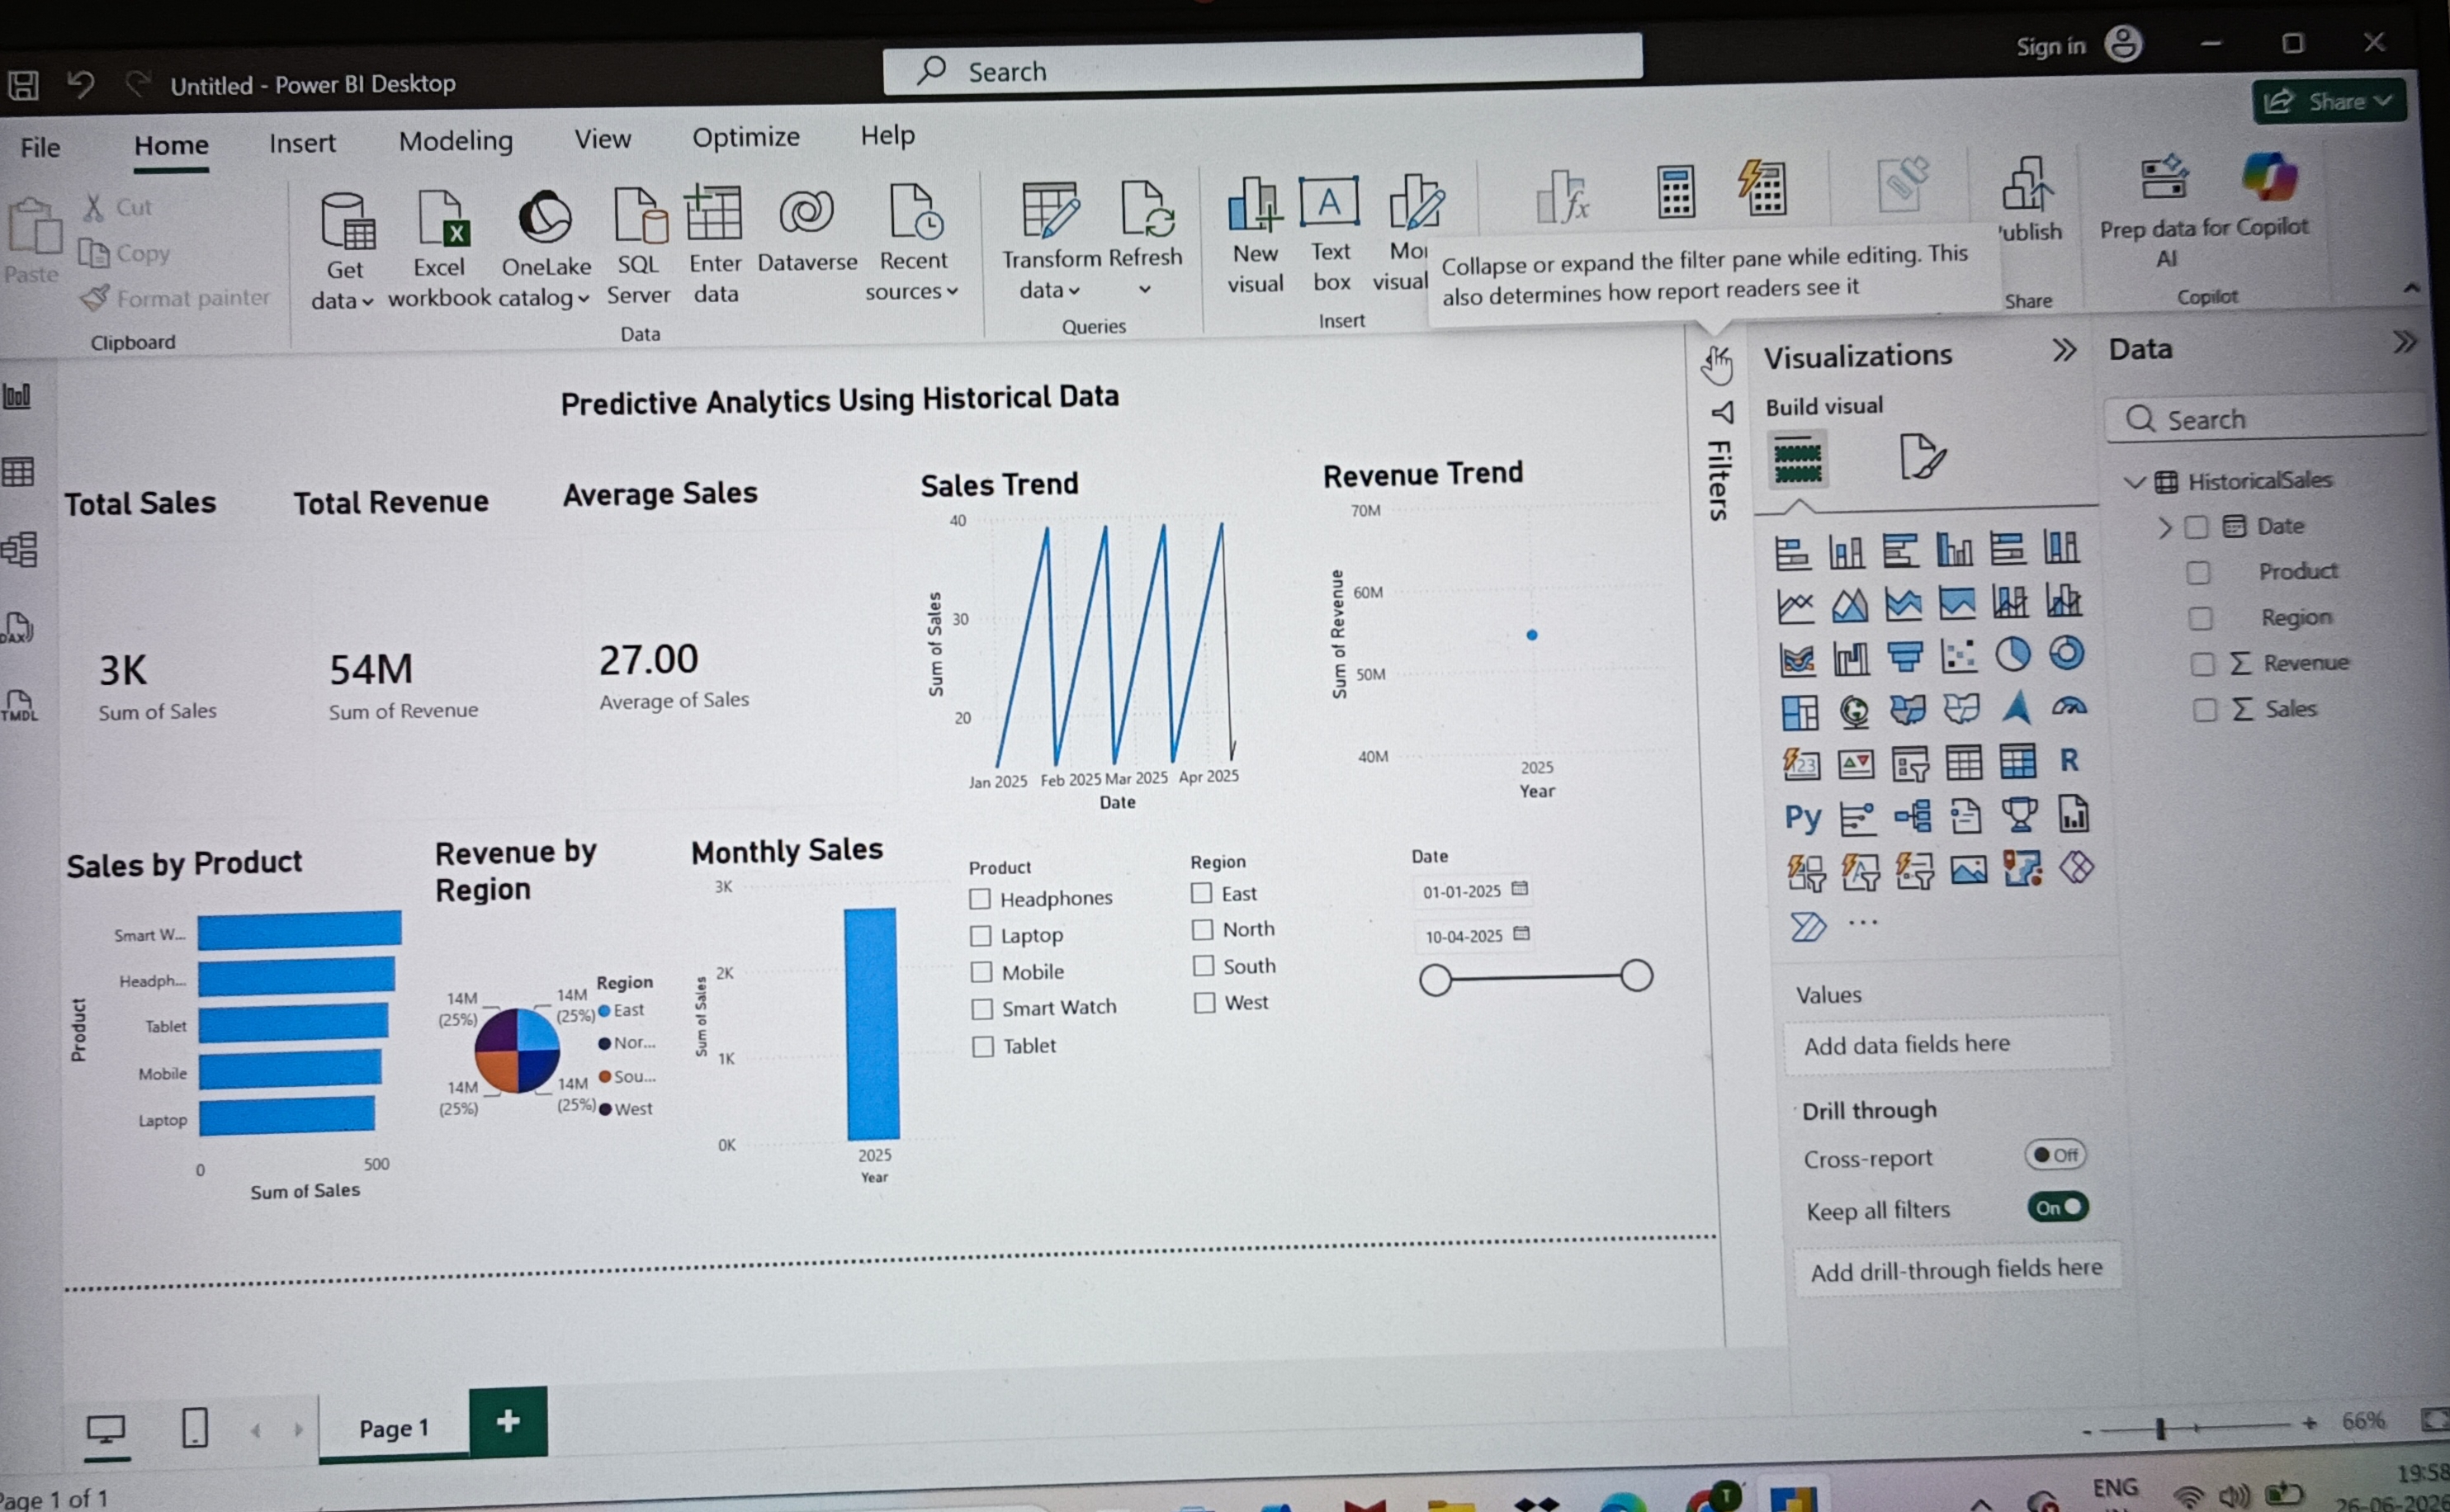

What the dashboard file says about the page in this screenshot:
{"tool":"powerbi","page":{"name":"Page 1","canvas":[1280,720],"ordinal":0},"visuals":[{"type":"cardVisual","title":"Total Sales","fields":{"Data":["Sum(HistoricalSales.Sales)"]},"box":[0,102,279.7,279.7],"z":0},{"type":"cardVisual","title":"Total Revenue","fields":{"Data":["Sum(HistoricalSales.Revenue)"]},"box":[175.7,103.9,279.7,281.6],"z":1000},{"type":"cardVisual","title":"Average Sales","fields":{"Data":["Avg(HistoricalSales.Sales)"]},"box":[383.6,102,279.7,281.6],"z":2000},{"type":"lineChart","title":"Sales Trend","fields":{"Y":["Sum(HistoricalSales.Sales)"],"Category":["HistoricalSales.Date"]},"box":[663.3,100.2,279.7,281.6],"z":3000},{"type":"lineChart","title":"Revenue Trend","fields":{"Category":["HistoricalSales.Date.Variation.Date Hierarchy.Year","HistoricalSales.Date.Variation.Date Hierarchy.Quarter","HistoricalSales.Date.Variation.Date Hierarchy.Month","HistoricalSales.Date.Variation.Date Hierarchy.Day"],"Y":["Sum(HistoricalSales.Revenue)"]},"box":[984.6,100.2,279.7,281.6],"z":4000},{"type":"clusteredBarChart","title":"Sales by Product","fields":{"Category":["HistoricalSales.Product"],"Y":["Sum(HistoricalSales.Sales)"]},"box":[0,383.6,279.7,281.6],"z":5000},{"type":"pieChart","title":" Revenue by Region","fields":{"Category":["HistoricalSales.Region"],"Y":["Sum(HistoricalSales.Revenue)"]},"box":[279.7,381.7,196.5,281.6],"z":6000},{"type":"clusteredColumnChart","title":"Monthly Sales","fields":{"Category":["HistoricalSales.Date.Variation.Date Hierarchy.Year","HistoricalSales.Date.Variation.Date Hierarchy.Quarter","HistoricalSales.Date.Variation.Date Hierarchy.Month","HistoricalSales.Date.Variation.Date Hierarchy.Day"],"Y":["Sum(HistoricalSales.Sales)"]},"box":[476.2,385.5,245.7,281.6],"z":7000},{"type":"slicer","fields":{"Values":["HistoricalSales.Product"]},"box":[686,406.3,279.7,281.6],"z":8000},{"type":"slicer","fields":{"Values":["HistoricalSales.Region"]},"box":[861.7,406.3,279.7,281.6],"z":9000},{"type":"slicer","fields":{"Values":["HistoricalSales.Date"]},"box":[1037.5,406.3,207.9,281.6],"z":10000},{"type":"textbox","title":"Predictive Analytics Using Historical Data","box":[383.6,30.2,459.2,56.7],"z":10001}]}

Visuals, with their boxes on the page's 1280x720 design canvas (x1, y1, x2, y2). These are canvas units, not pixel positions in the 2450x1512 screenshot, which may show the page scaled, cropped or inside an application window:
"Total Sales" cardVisual: {"left": 0, "top": 102, "right": 280, "bottom": 382}
"Total Revenue" cardVisual: {"left": 176, "top": 104, "right": 455, "bottom": 386}
"Average Sales" cardVisual: {"left": 384, "top": 102, "right": 663, "bottom": 384}
"Sales Trend" lineChart: {"left": 663, "top": 100, "right": 943, "bottom": 382}
"Revenue Trend" lineChart: {"left": 985, "top": 100, "right": 1264, "bottom": 382}
"Sales by Product" clusteredBarChart: {"left": 0, "top": 384, "right": 280, "bottom": 665}
" Revenue by Region" pieChart: {"left": 280, "top": 382, "right": 476, "bottom": 663}
"Monthly Sales" clusteredColumnChart: {"left": 476, "top": 386, "right": 722, "bottom": 667}
slicer - HistoricalSales.Product: {"left": 686, "top": 406, "right": 966, "bottom": 688}
slicer - HistoricalSales.Region: {"left": 862, "top": 406, "right": 1141, "bottom": 688}
slicer - HistoricalSales.Date: {"left": 1038, "top": 406, "right": 1245, "bottom": 688}
"Predictive Analytics Using Historical Data" textbox: {"left": 384, "top": 30, "right": 843, "bottom": 87}
